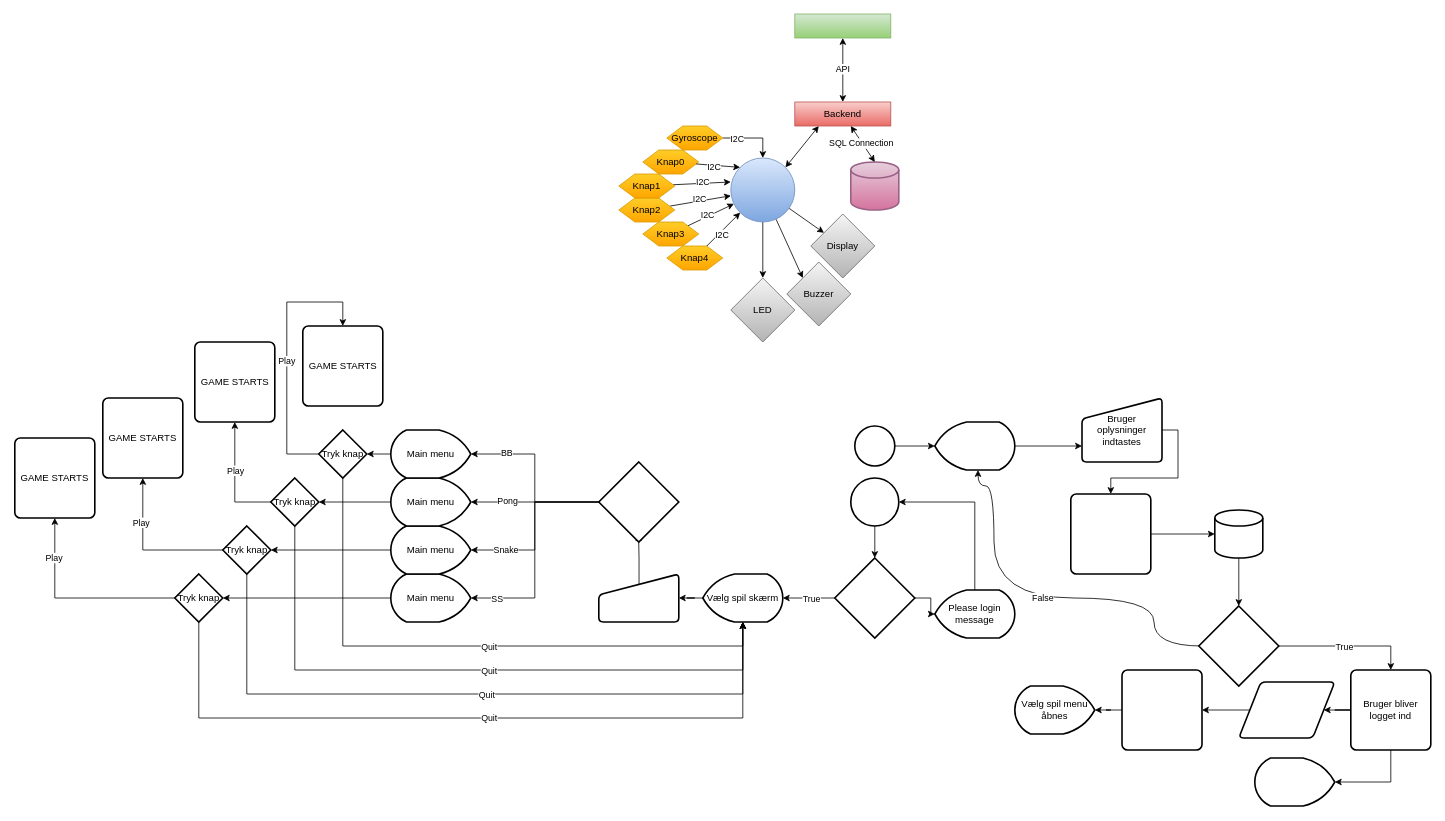
This 1445x821 diagram has some shape labels left out. Each missing label, with the box of its shape:
Arduino: (730, 157, 795, 222)
Arduino modtage data: (1121, 669, 1202, 750)
Bruger input: (598, 573, 679, 622)
Dashboard: (1254, 757, 1335, 806)
Dashboard (App): (794, 13, 891, 38)
DB: (850, 161, 899, 210)
Informationer valideres: (1070, 493, 1151, 574)
Logget ind: (834, 557, 915, 638)
Login info sendes til arduino: (1238, 681, 1335, 738)
Login side: (934, 421, 1015, 470)
User eksisterer: (1198, 605, 1279, 686)
